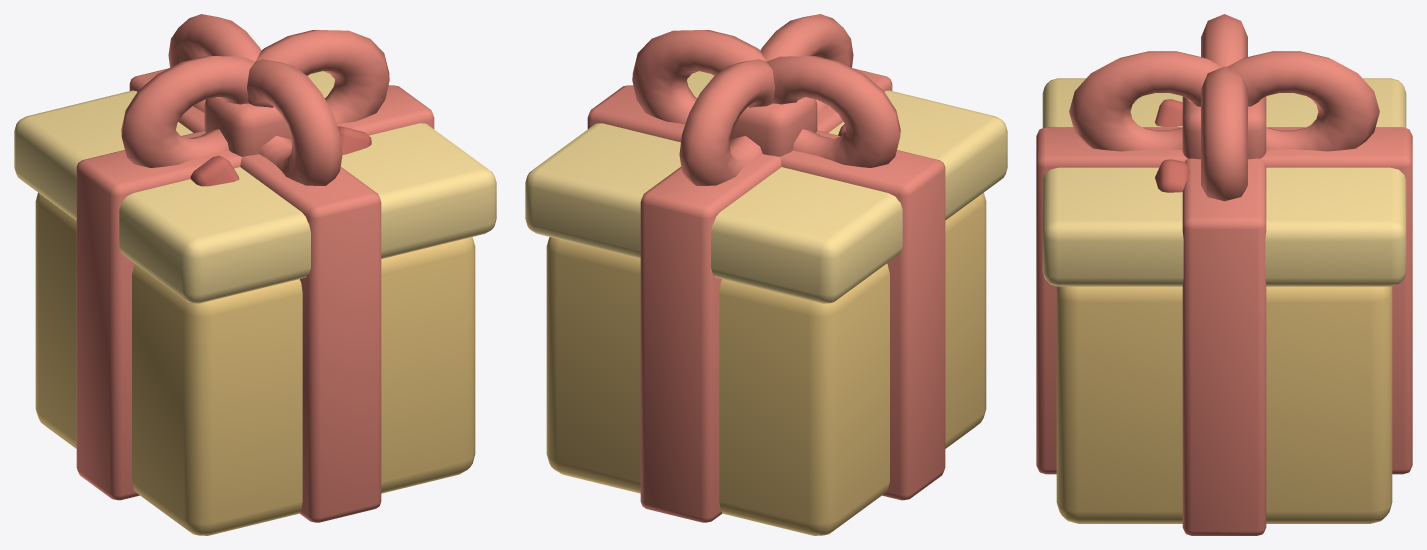
File: reward-gift-sealed.glb
The picture shows the model from 3 angles, left to right: view 1: azimuth 30°, elevation 25°; view 2: azimuth 150°, elevation 25°; view 3: azimuth 270°, elevation 25°; orthographic projection.
Parts seen in each view (by area): view 1: reward gift sealed; view 2: reward gift sealed; view 3: reward gift sealed.
Part boxes in pixels (left/top/right/bottom): reward gift sealed: left=14, top=14, right=496, bottom=535; reward gift sealed: left=525, top=14, right=1007, bottom=535; reward gift sealed: left=1036, top=14, right=1412, bottom=535.
Size of the model in its own units: 1.21 by 1.44 by 1.21.
